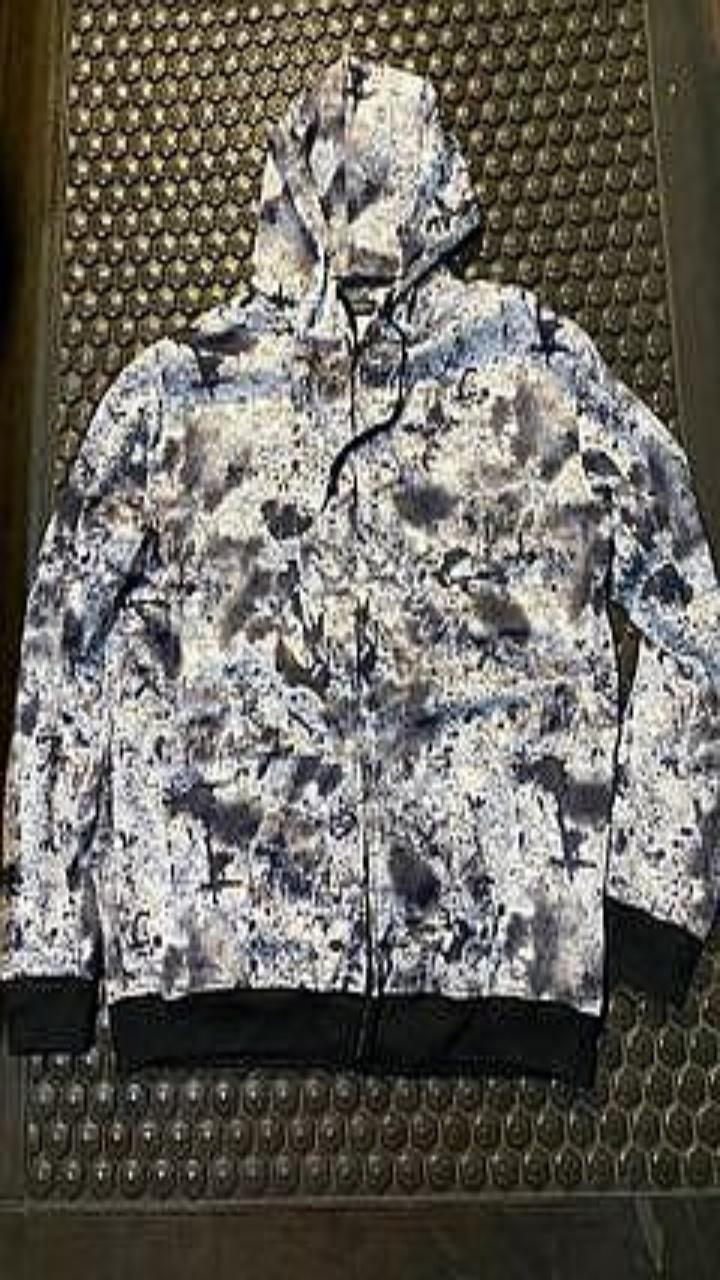Sports_Jacket: (0, 53, 719, 1082)
